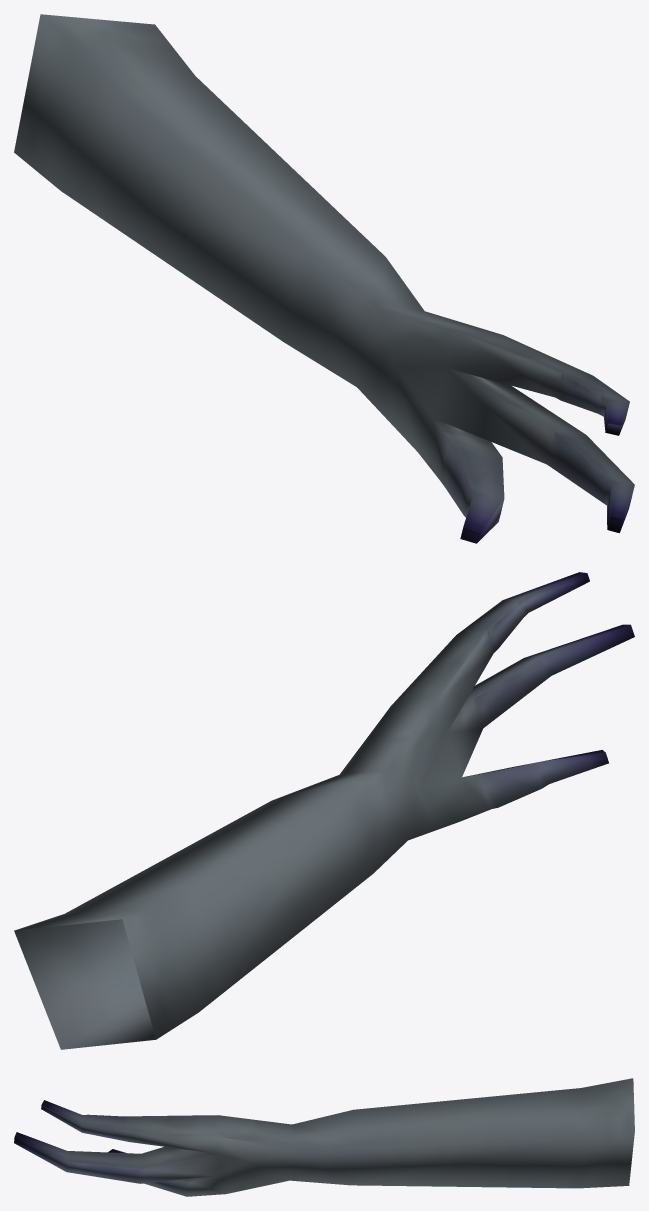
Rendered from alienarm_r.fbx.
3 renders of one model, top to bottom at view 1: azimuth 30°, elevation 25°; view 2: azimuth 150°, elevation 25°; view 3: azimuth 270°, elevation 25°, orthographic. The views are drawn at different scales.
Visible parts, largest first — view 1: alienarm_r; view 2: alienarm_r; view 3: alienarm_r.
Part boxes in pixels (x1=…): alienarm_r: x1=14, y1=14, x2=634, y2=543; alienarm_r: x1=14, y1=572, x2=634, y2=1049; alienarm_r: x1=14, y1=1078, x2=634, y2=1196.
Bounding box in the file's own units: 0.0785 × 0.085 × 0.4511.
